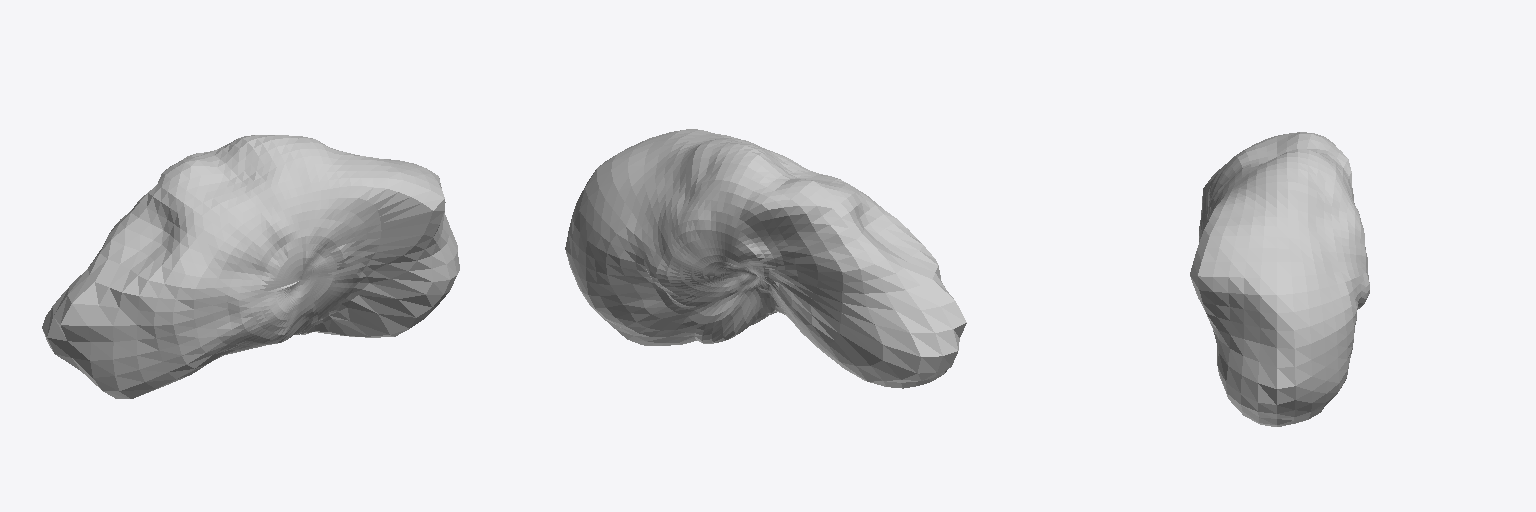
File: Ida_scale0002.obj
3 renders of one model, left to right at view 1: azimuth 30°, elevation 25°; view 2: azimuth 150°, elevation 25°; view 3: azimuth 270°, elevation 25°, orthographic.
Bounding box in the file's own units: 0.0116 × 0.006 × 0.0045.